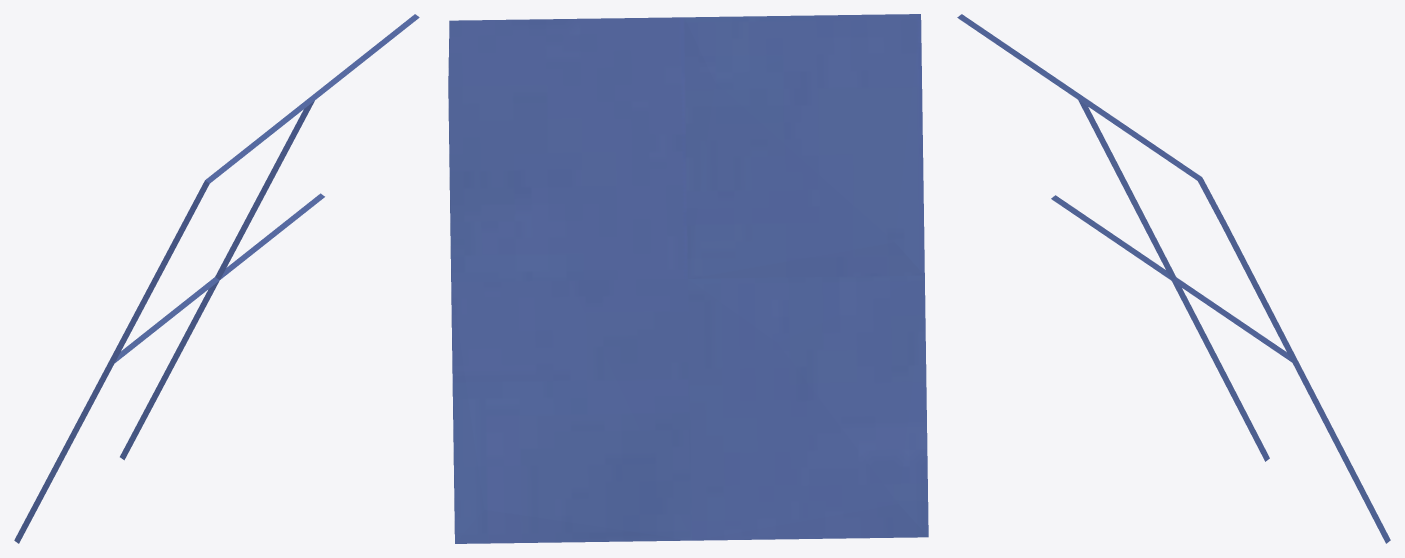
3 renders of one model, left to right at view 1: azimuth 30°, elevation 25°; view 2: azimuth 150°, elevation 25°; view 3: azimuth 270°, elevation 25°, orthographic. The views are drawn at different scales.
Size of the model in its own units: 19645 by 17737 by 16840.
Materials: 1 (1 with a texture image).
